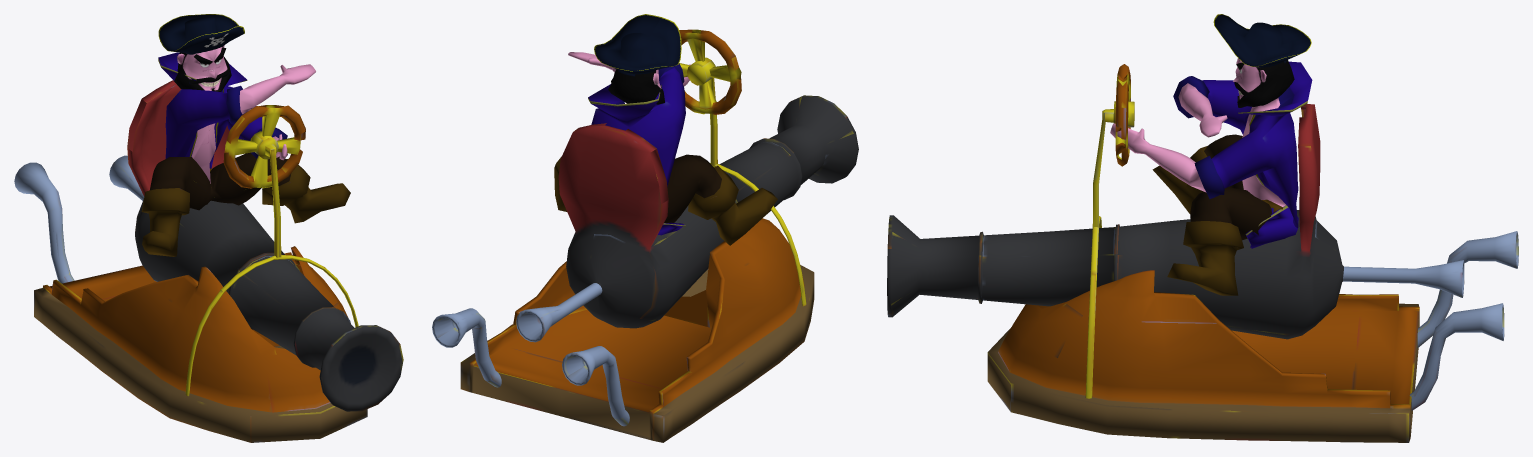
Rendered from VacilePirata_000516.obj.
3 renders of one model, left to right at view 1: azimuth 30°, elevation 25°; view 2: azimuth 150°, elevation 25°; view 3: azimuth 270°, elevation 25°, orthographic. The views are drawn at different scales.
Parts seen in each view (by area): view 1: carro_pirata_carro_pirata.001, Pirata_PirataH; view 2: carro_pirata_carro_pirata.001, Pirata_PirataH; view 3: carro_pirata_carro_pirata.001, Pirata_PirataH.
Boxes of the visible parts, x1,y1,x2,y2 form: carro_pirata_carro_pirata.001: [14, 80, 403, 442]; Pirata_PirataH: [141, 14, 350, 256]; carro_pirata_carro_pirata.001: [432, 29, 858, 442]; Pirata_PirataH: [554, 14, 777, 245]; carro_pirata_carro_pirata.001: [887, 64, 1518, 442]; Pirata_PirataH: [1110, 14, 1312, 295].
Size of the model in its own units: 5.2 by 7.67 by 12.1.
